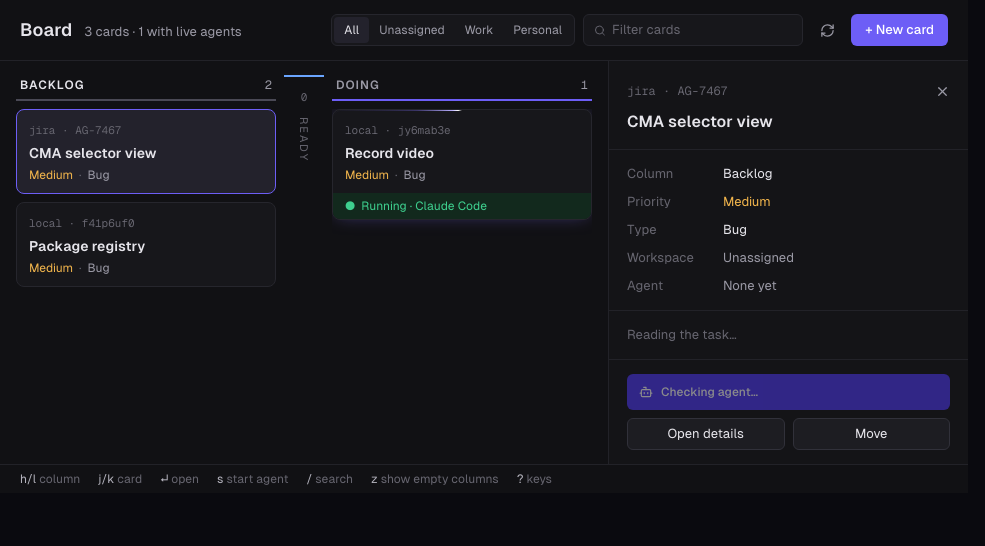
Test: Board layout › on a wide screen › selects a clicked card without opening its details
The width and height of the screenshot is (985, 546).
Click the text "Record video" at (390, 153), box [345, 145, 434, 161]
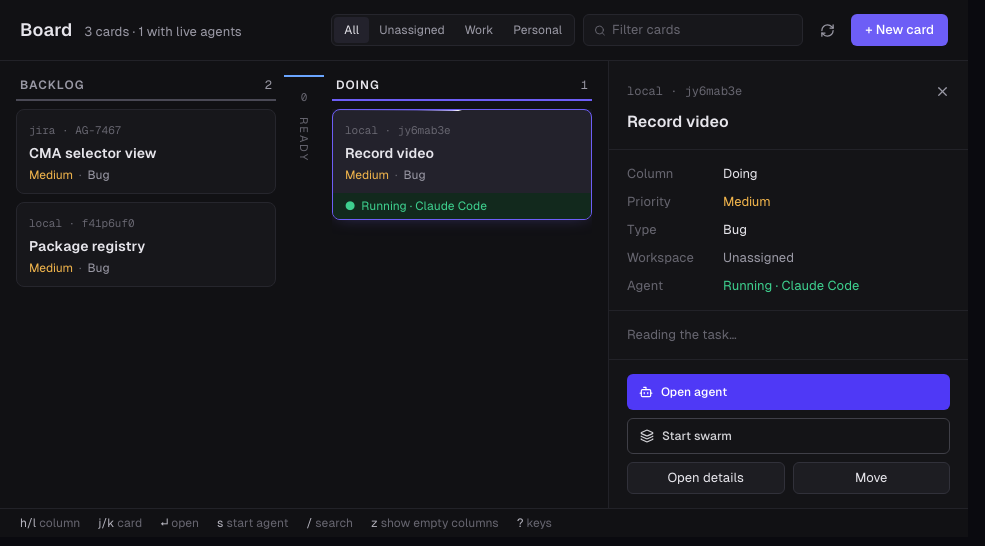
Result: the heading "Record video" is shown at [627, 112, 729, 131]
Result: the text "Running · Claude Code" below "Workspace" is shown at [723, 278, 859, 293]
